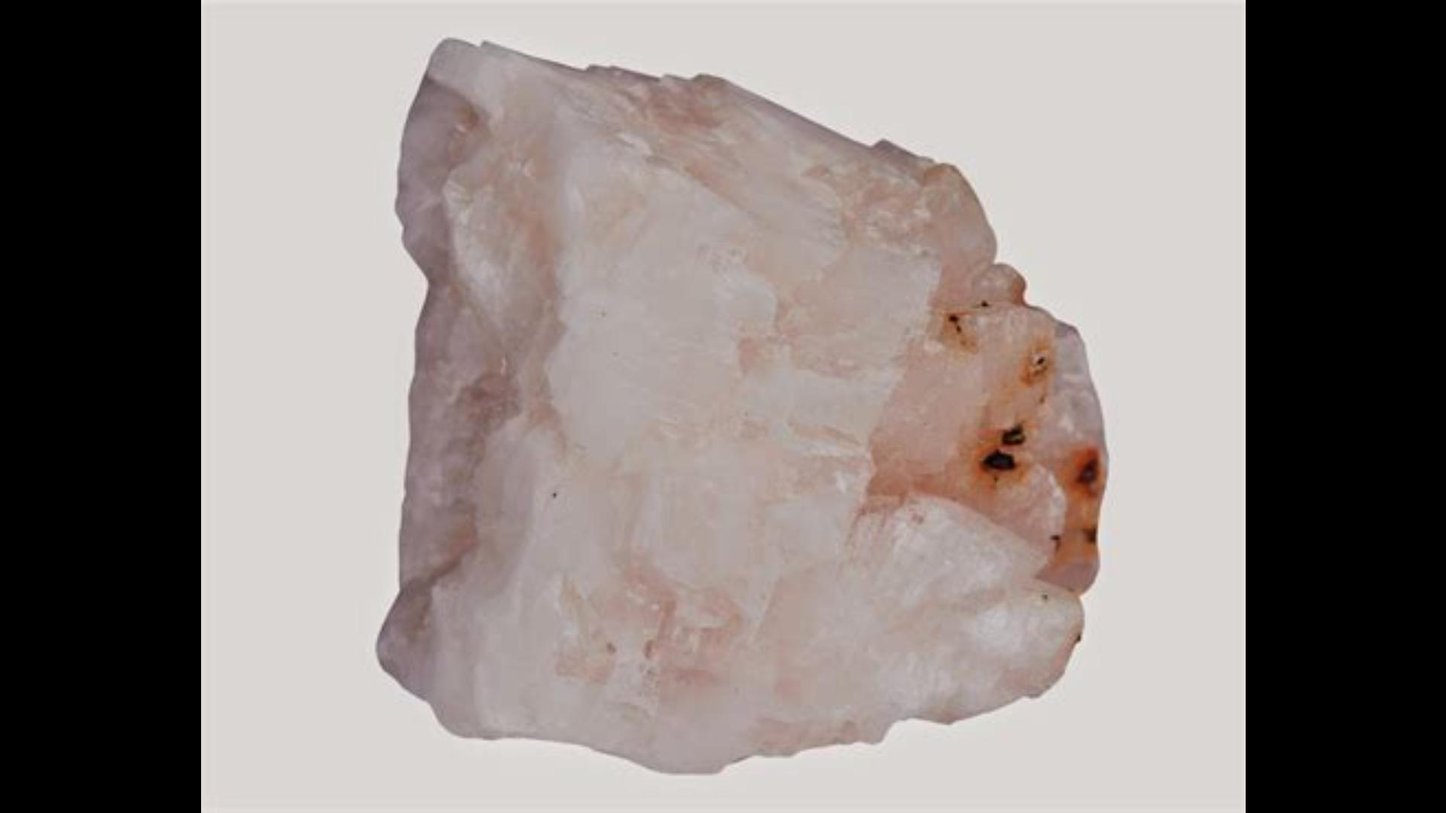rock: (381, 42, 1097, 771)
